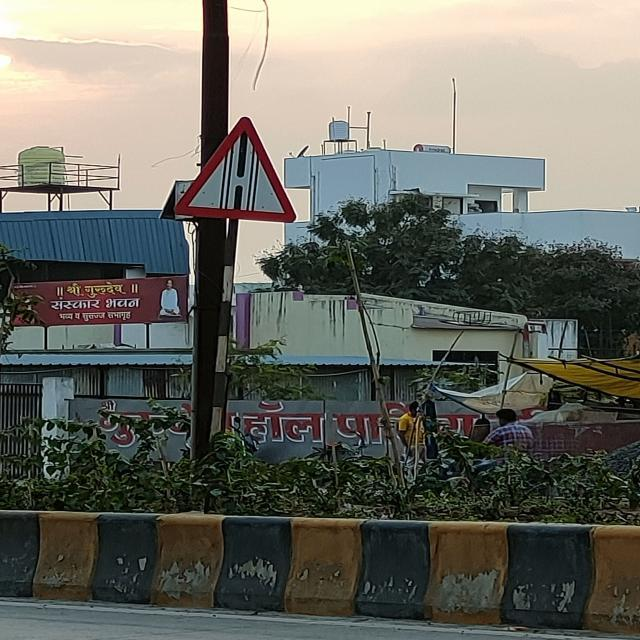gap in median: (165, 114, 303, 229)
